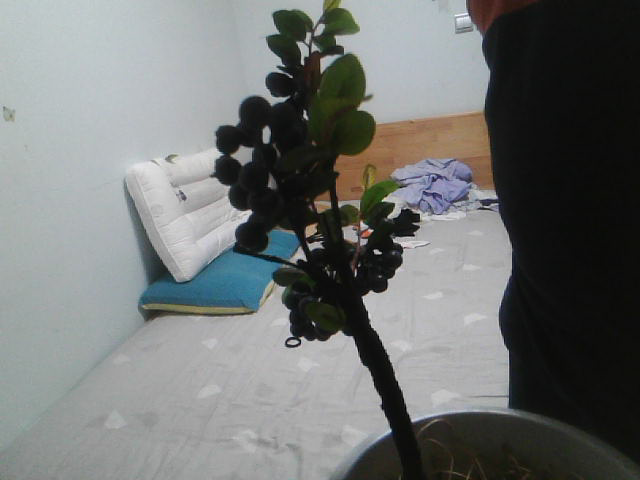blueberry: (333, 105, 378, 157), (236, 93, 271, 127), (309, 300, 343, 330), (311, 304, 342, 335), (213, 153, 240, 181)
